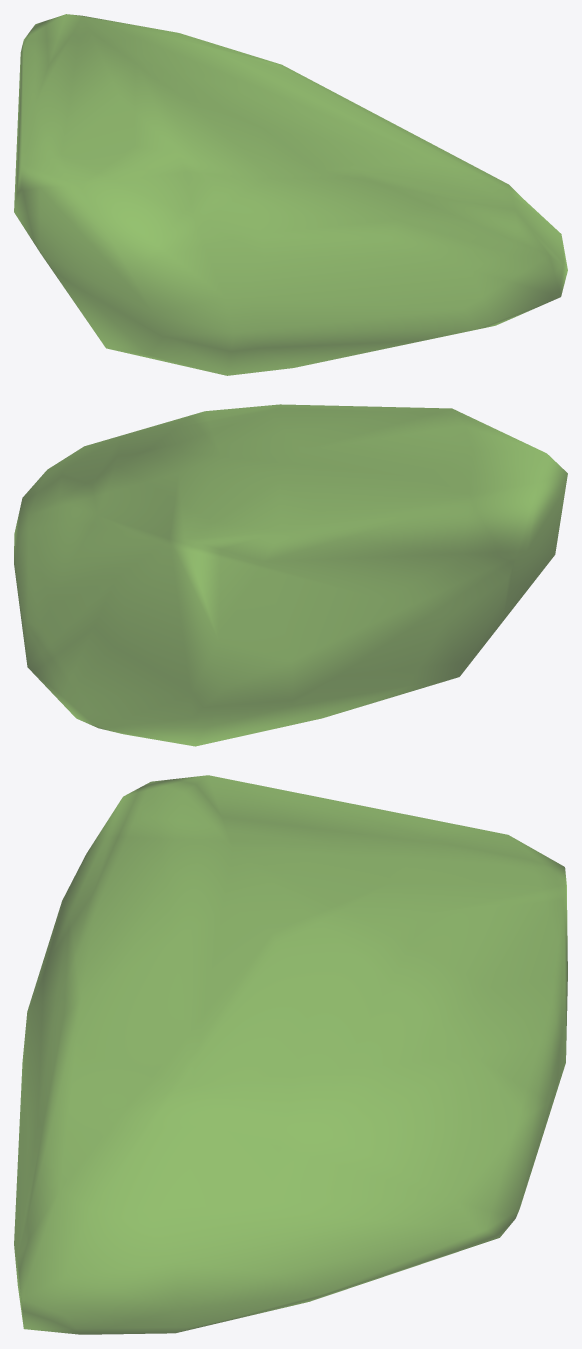
Rendered from SMALL_desert_rock_04_Unity_colliders.fbx.
3 views of the same model, one above another, from view 1: azimuth 30°, elevation 25°; view 2: azimuth 150°, elevation 25°; view 3: azimuth 270°, elevation 25° (orthographic). The views are drawn at different scales.
Parts seen in each view (by area): view 1: SMALL_desert_rock_04_collider_01; view 2: SMALL_desert_rock_04_collider_01; view 3: SMALL_desert_rock_04_collider_01.
Boxes of the visible parts, bbox=[...] form: SMALL_desert_rock_04_collider_01: bbox=[14, 14, 567, 375]; SMALL_desert_rock_04_collider_01: bbox=[14, 404, 567, 746]; SMALL_desert_rock_04_collider_01: bbox=[14, 775, 567, 1334].
Bounding box in the file's own units: 47.02 × 22.71 × 34.79.
